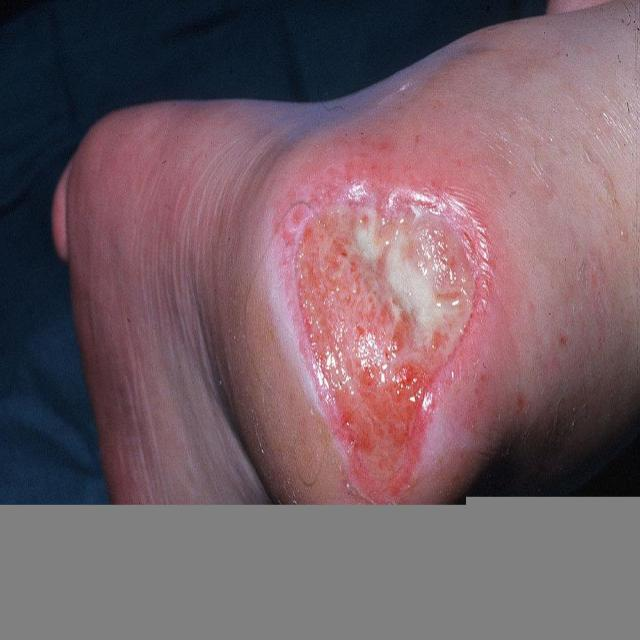stage-3: (280, 182, 490, 500)
